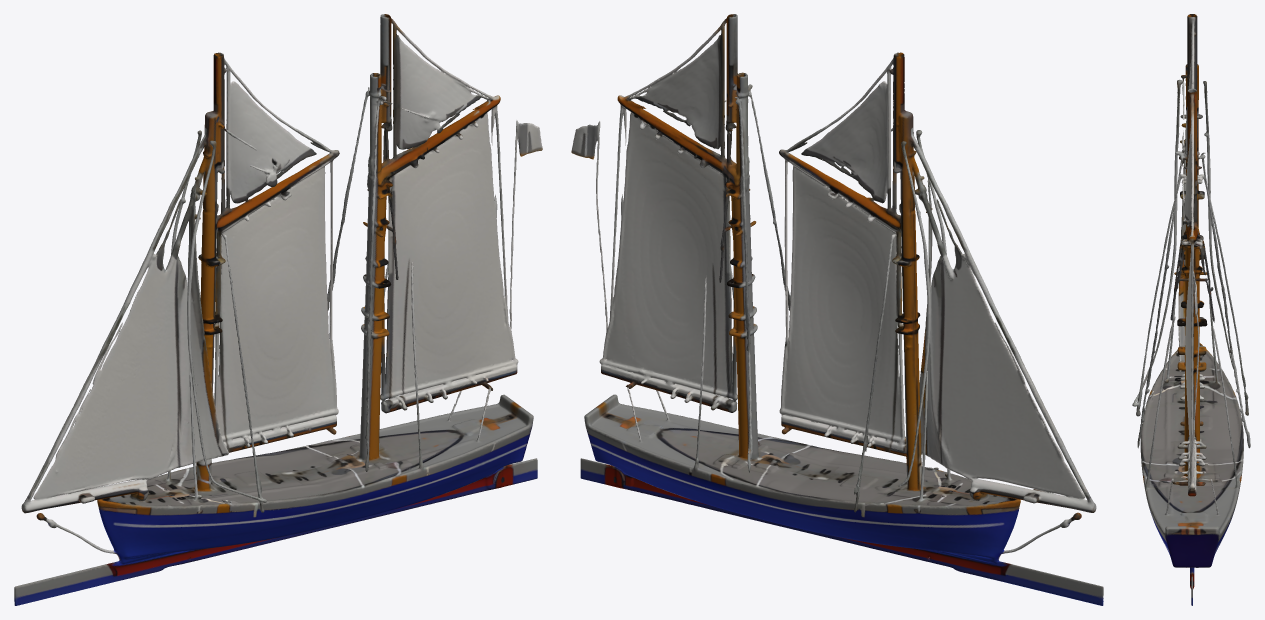
3 views of the same model, side by side, from view 1: azimuth 30°, elevation 25°; view 2: azimuth 150°, elevation 25°; view 3: azimuth 270°, elevation 25° (orthographic). The views are drawn at different scales.
Parts seen in each view (by area): view 1: tripo_node_6a725c77-1eef-4b81-83c0-2940eb706982; view 2: tripo_node_6a725c77-1eef-4b81-83c0-2940eb706982; view 3: tripo_node_6a725c77-1eef-4b81-83c0-2940eb706982.
Part boxes in pixels (<box>): tripo_node_6a725c77-1eef-4b81-83c0-2940eb706982: <box>14,14,542,605</box>; tripo_node_6a725c77-1eef-4b81-83c0-2940eb706982: <box>571,14,1103,605</box>; tripo_node_6a725c77-1eef-4b81-83c0-2940eb706982: <box>1132,14,1250,605</box>.
Size of the model in its own units: 1 by 0.9055 by 0.2149.
1 material, 1 textured.
